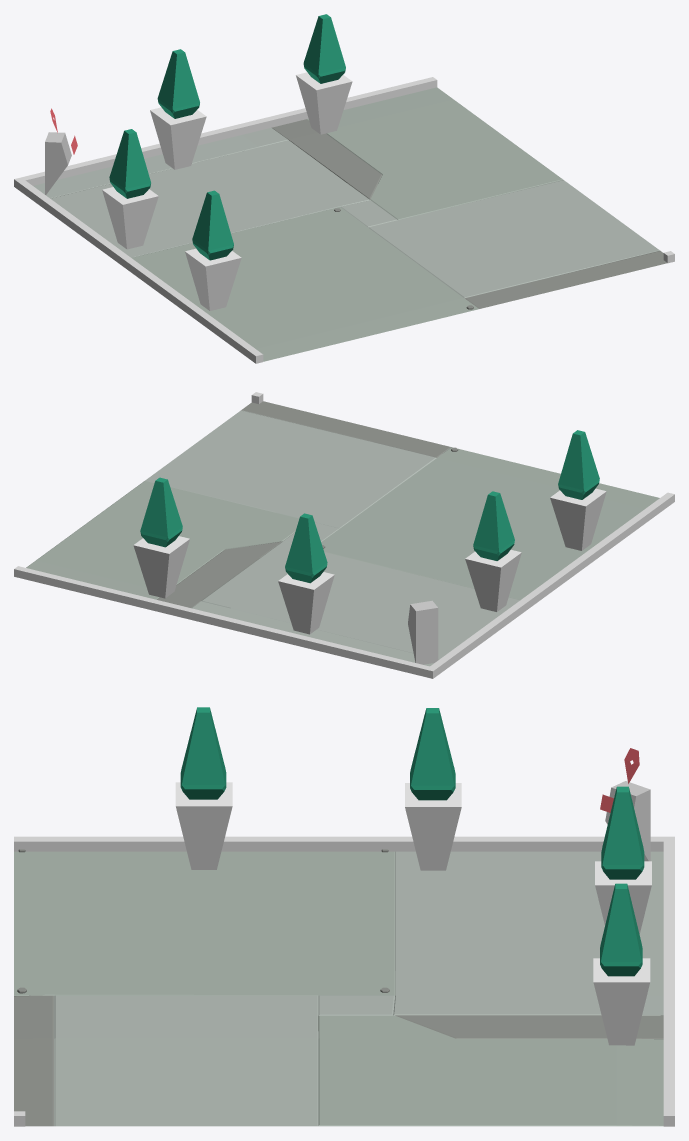
3 views of the same model, one above another, from view 1: azimuth 30°, elevation 25°; view 2: azimuth 150°, elevation 25°; view 3: azimuth 270°, elevation 25° (orthographic). The views are drawn at different scales.
Parts seen in each view (by area): view 1: Scifi_Panel_04_Plaza014_group4.034_Scifi_Panel_04_Plaza014_g, Cube.1030_Cube.1154, base_singlePot01.024_base_singlePot01.028, base_singlePot01.025_base_singlePot01.029, base_singlePot01.026_base_singlePot01.030, base_singlePot01.027_base_singlePot01.031, panel.012_panel.019; view 2: Scifi_Panel_04_Plaza014_group4.034_Scifi_Panel_04_Plaza014_g, Cube.1030_Cube.1154, base_singlePot01.025_base_singlePot01.029, base_singlePot01.024_base_singlePot01.028, base_singlePot01.026_base_singlePot01.030, base_singlePot01.027_base_singlePot01.031, panel.012_panel.019; view 3: Scifi_Panel_04_Plaza014_group4.034_Scifi_Panel_04_Plaza014_g, Cube.1030_Cube.1154, base_singlePot01.026_base_singlePot01.030, base_singlePot01.027_base_singlePot01.031, base_singlePot01.025_base_singlePot01.029, base_singlePot01.024_base_singlePot01.028, panel.012_panel.019.
Part boxes in pixels (left/top/right/bottom): Scifi_Panel_04_Plaza014_group4.034_Scifi_Panel_04_Plaza014_g: left=33, top=87, right=667, bottom=361; Cube.1030_Cube.1154: left=14, top=77, right=437, bottom=363; base_singlePot01.024_base_singlePot01.028: left=150, top=49, right=206, bottom=169; base_singlePot01.025_base_singlePot01.029: left=296, top=14, right=352, bottom=134; base_singlePot01.026_base_singlePot01.030: left=185, top=190, right=241, bottom=310; base_singlePot01.027_base_singlePot01.031: left=102, top=129, right=158, bottom=249; panel.012_panel.019: left=45, top=108, right=77, bottom=194; Scifi_Panel_04_Plaza014_group4.034_Scifi_Panel_04_Plaza014_g: left=26, top=401, right=659, bottom=666; Cube.1030_Cube.1154: left=14, top=492, right=674, bottom=678; base_singlePot01.025_base_singlePot01.029: left=133, top=477, right=189, bottom=598; base_singlePot01.024_base_singlePot01.028: left=278, top=513, right=334, bottom=634; base_singlePot01.026_base_singlePot01.030: left=550, top=430, right=606, bottom=550; base_singlePot01.027_base_singlePot01.031: left=465, top=491, right=521, bottom=611; panel.012_panel.019: left=408, top=600, right=438, bottom=664; Scifi_Panel_04_Plaza014_group4.034_Scifi_Panel_04_Plaza014_g: left=14, top=849, right=663, bottom=1126; Cube.1030_Cube.1154: left=14, top=836, right=674, bottom=1126; base_singlePot01.026_base_singlePot01.030: left=175, top=707, right=232, bottom=869; base_singlePot01.027_base_singlePot01.031: left=405, top=708, right=461, bottom=870; base_singlePot01.025_base_singlePot01.029: left=593, top=883, right=650, bottom=1045; base_singlePot01.024_base_singlePot01.028: left=595, top=786, right=651, bottom=933; panel.012_panel.019: left=600, top=748, right=650, bottom=861.
Size of the model in its own units: 10 by 2.59 by 10.
